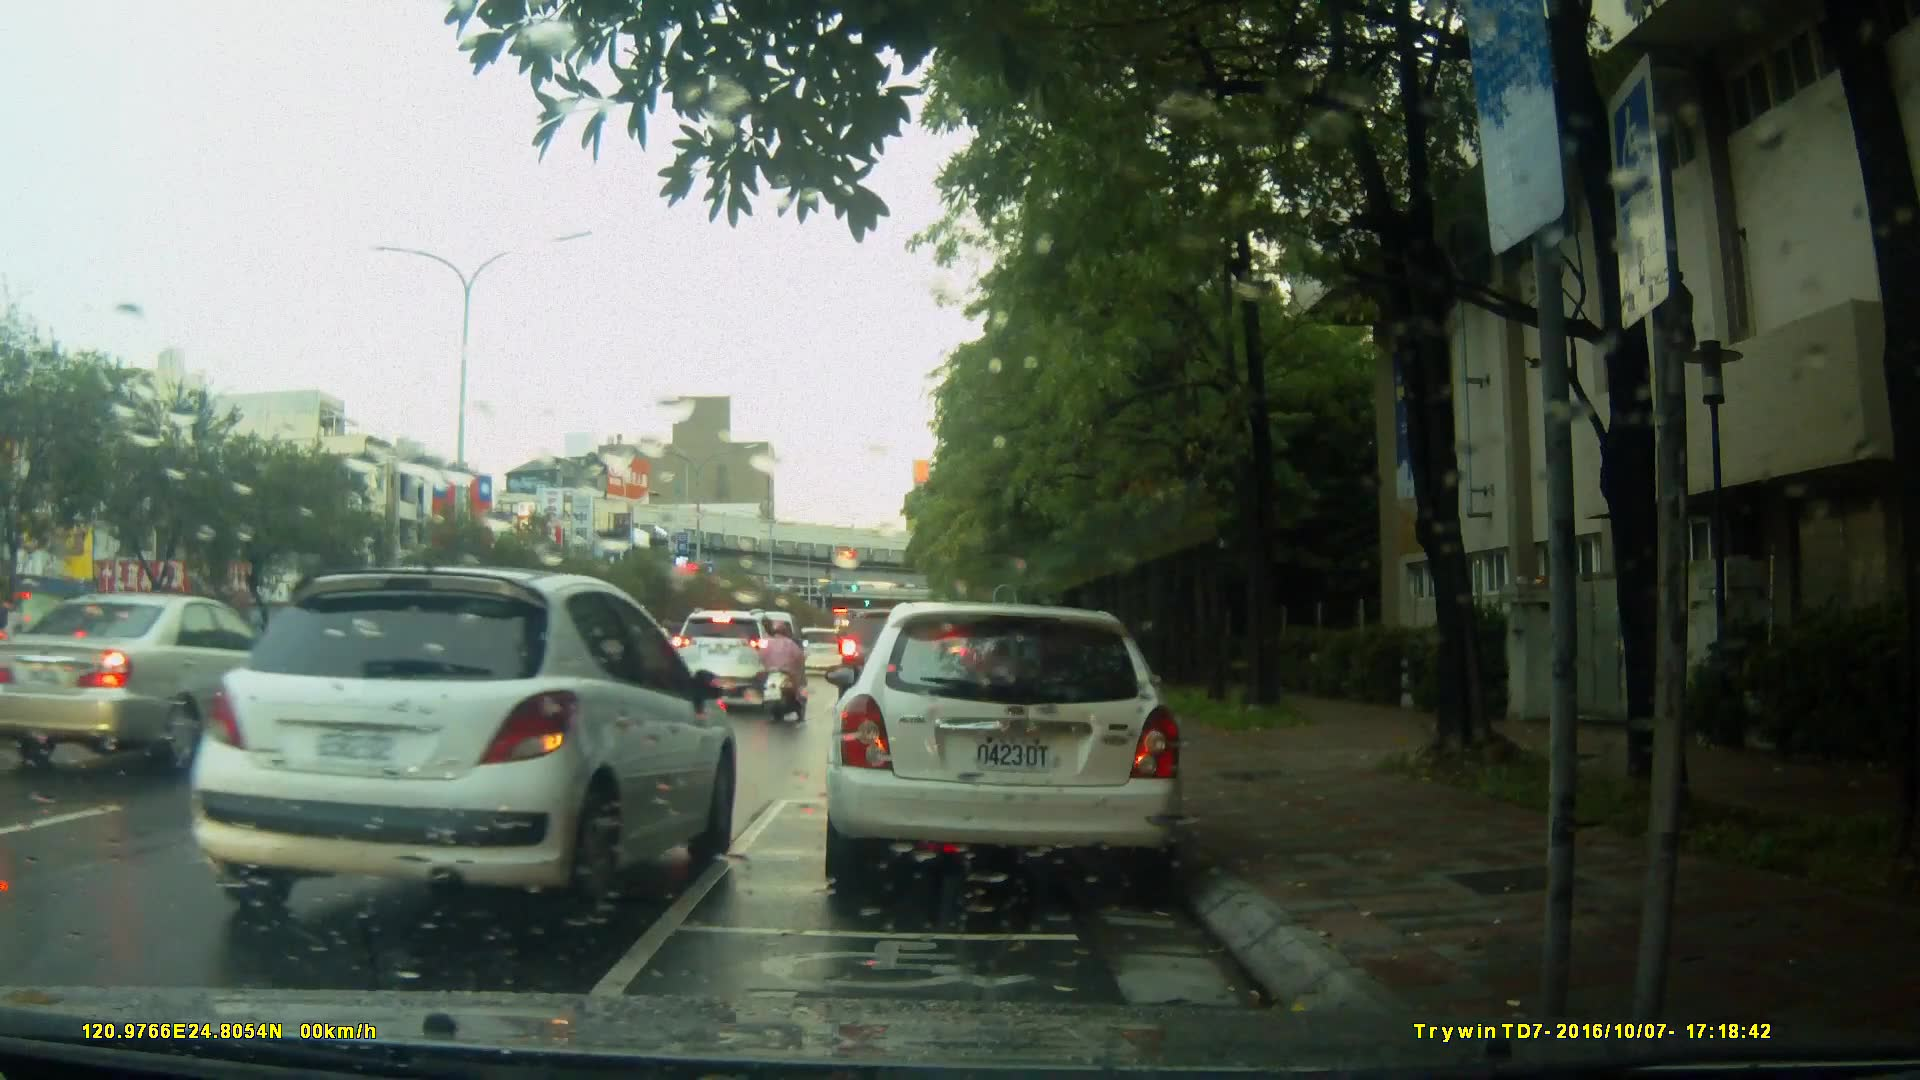rider: (755, 613, 803, 727)
vehicle: (184, 563, 741, 933), (820, 602, 1188, 898), (7, 591, 337, 774), (671, 609, 791, 711)
